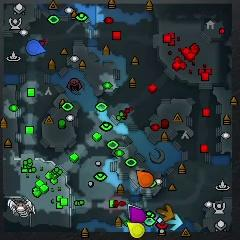p1: (26, 40, 45, 56)
p2: (127, 203, 142, 218)
p3: (130, 206, 146, 225)
p4: (126, 221, 145, 238)
p5: (136, 170, 153, 187)
x3: (165, 214, 183, 230)
x5: (156, 205, 174, 221)
